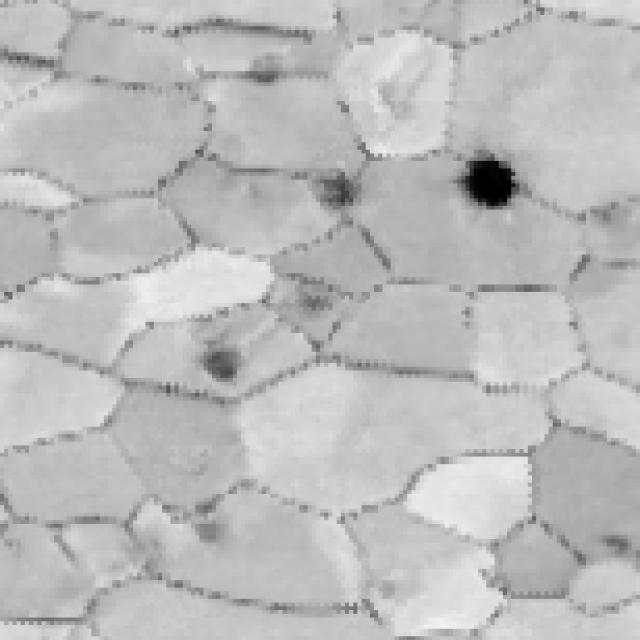good_void: (455, 149, 537, 222), (190, 338, 248, 394), (312, 167, 374, 215), (192, 510, 243, 552), (248, 49, 292, 95), (291, 281, 339, 321), (591, 529, 635, 563)
